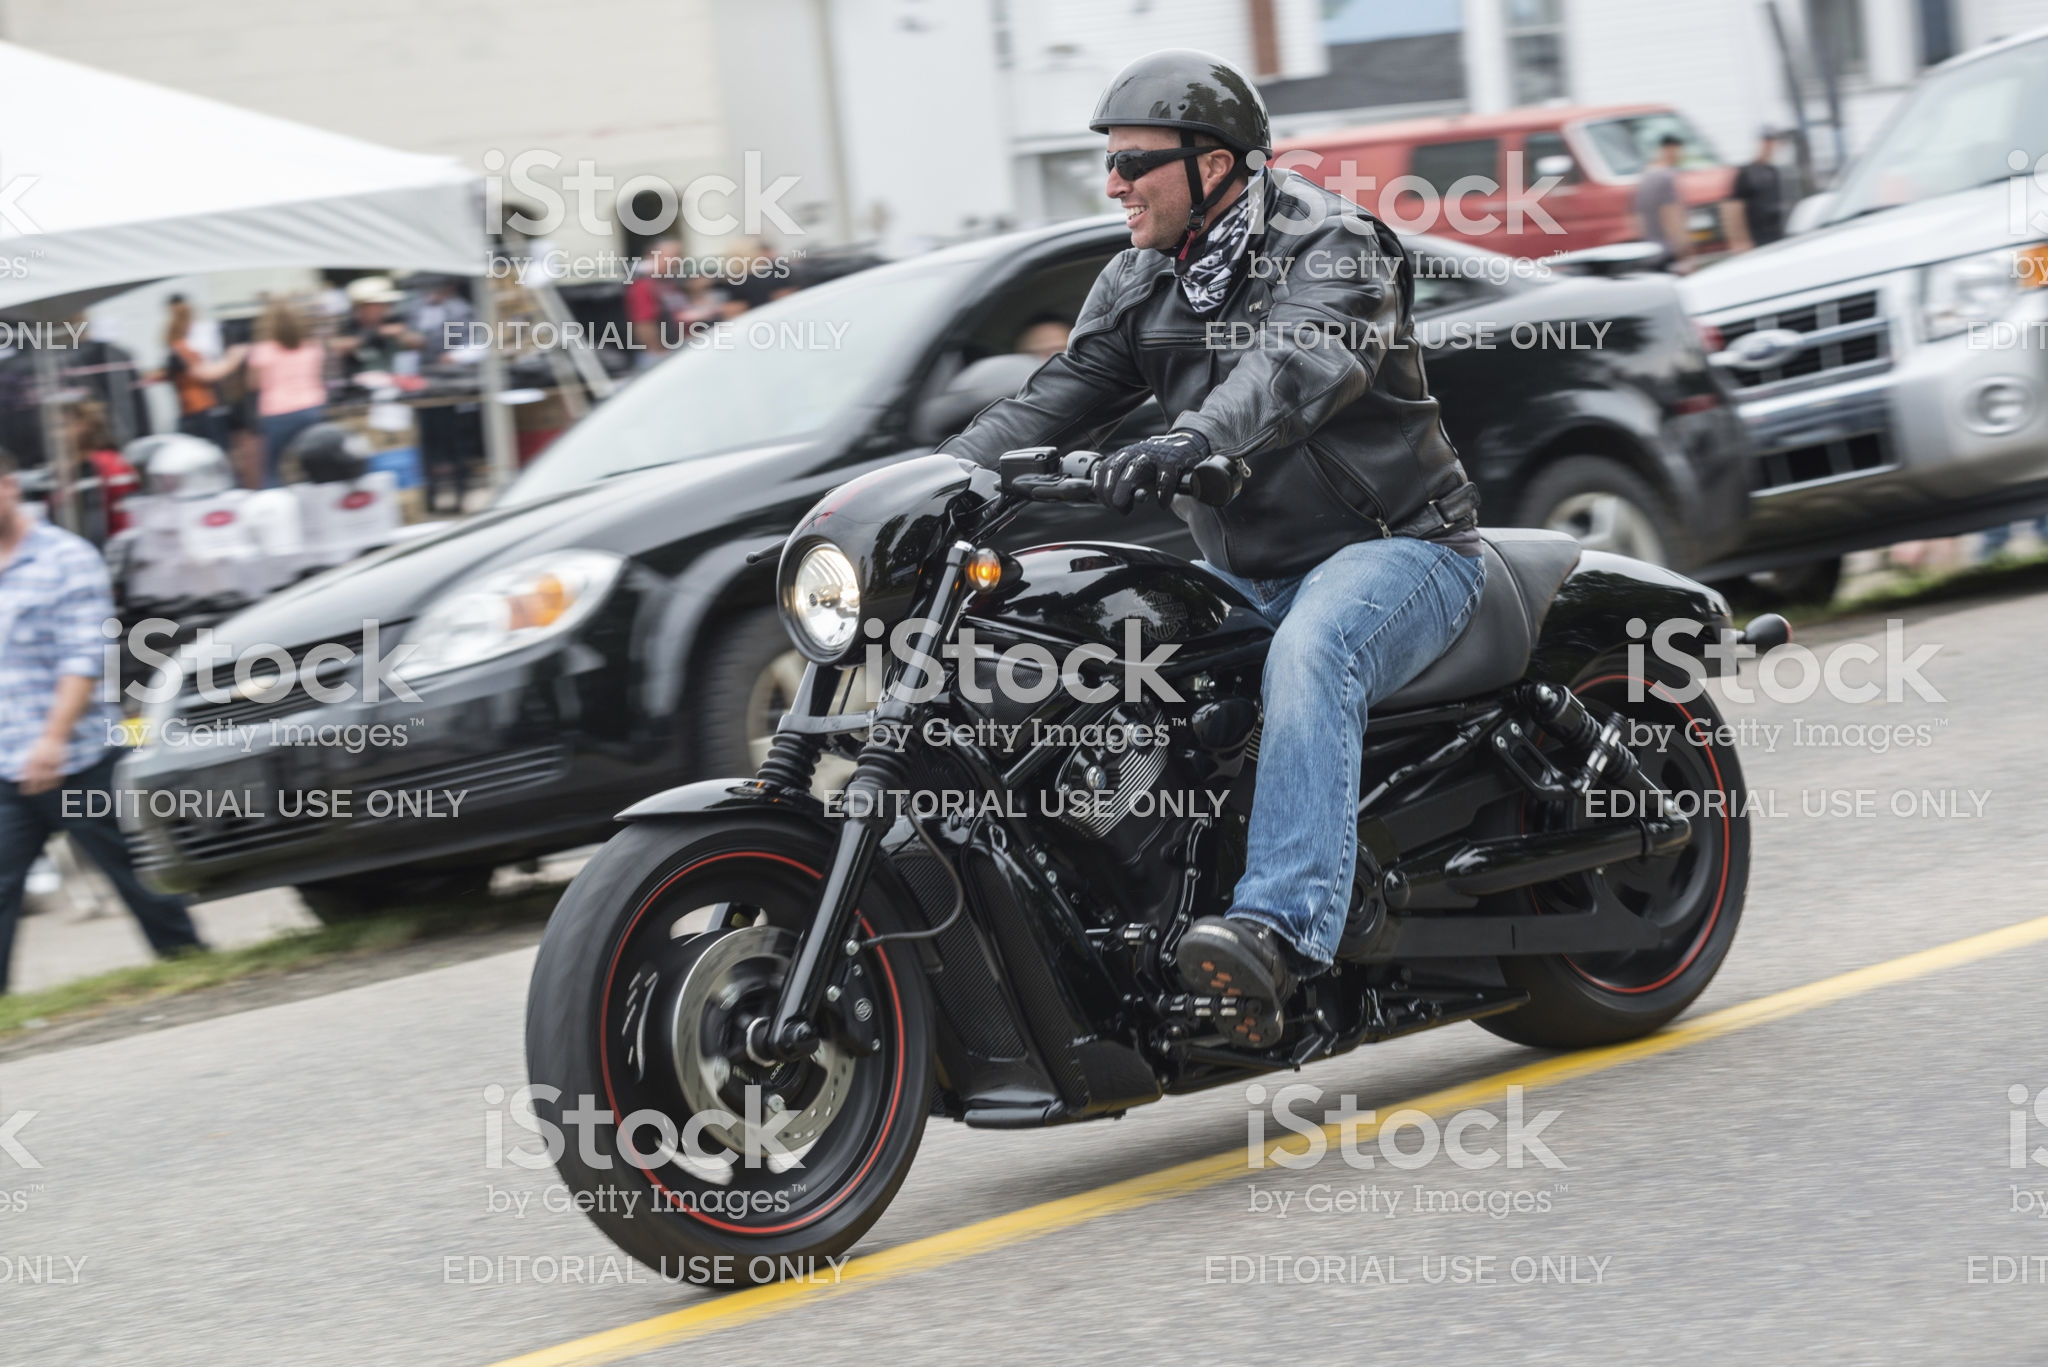helmet: (1096, 53, 1273, 175)
